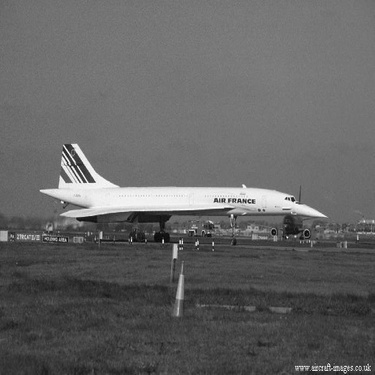airplane: (35, 133, 339, 247)
